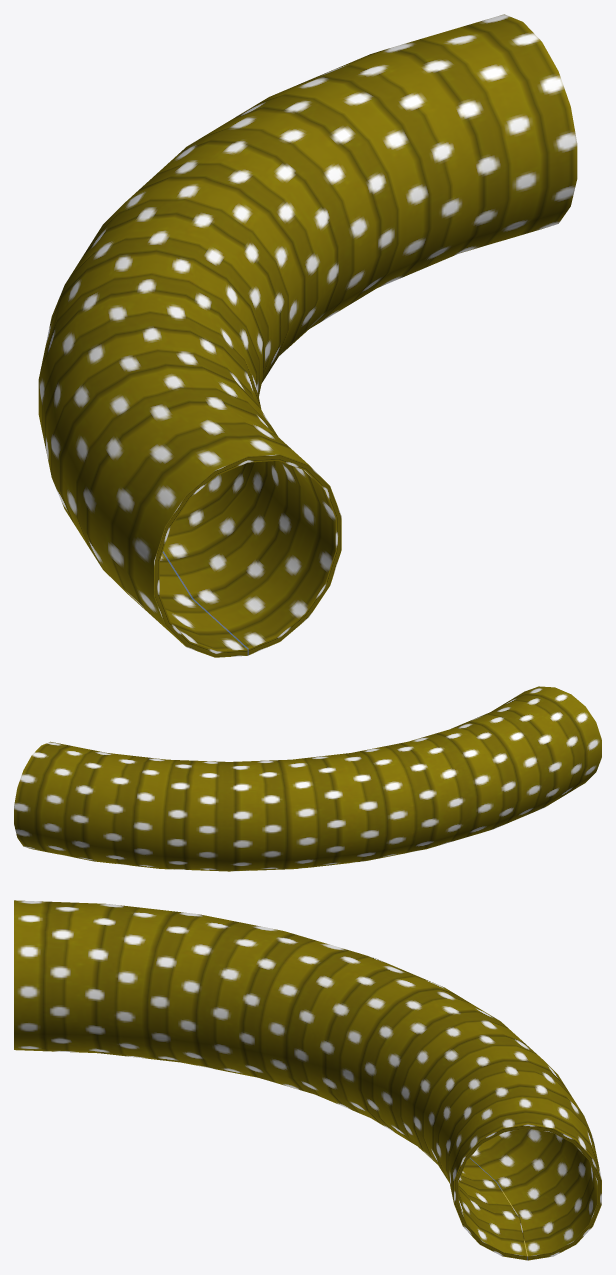
Rendered from Pipe_03.FBX.
3 renders of one model, top to bottom at view 1: azimuth 30°, elevation 25°; view 2: azimuth 150°, elevation 25°; view 3: azimuth 270°, elevation 25°, orthographic. The views are drawn at different scales.
Visible parts, largest first — view 1: Pipe2_01; view 2: Pipe2_01; view 3: Pipe2_01.
Part boxes in pixels (box(x1,y1,x2,y2)): Pipe2_01: box(38, 14, 577, 657); Pipe2_01: box(14, 686, 601, 871); Pipe2_01: box(14, 900, 601, 1260).
Size of the model in its own units: 114 by 29.18 by 114.
